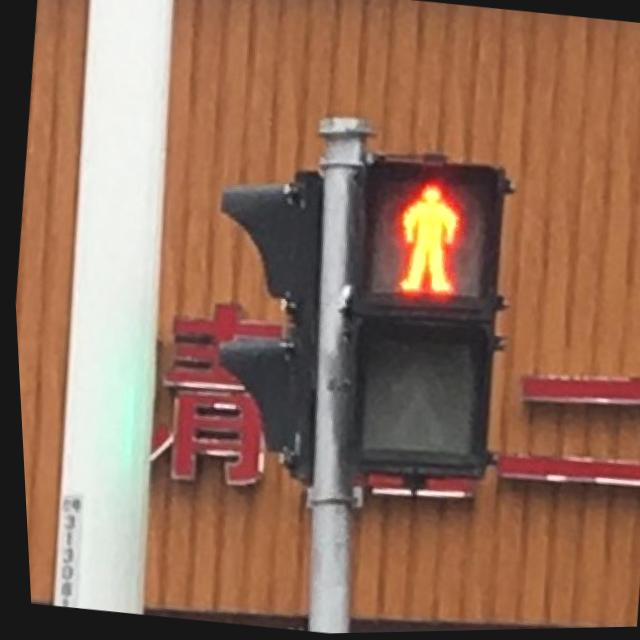red_light: (354, 168, 502, 316)
